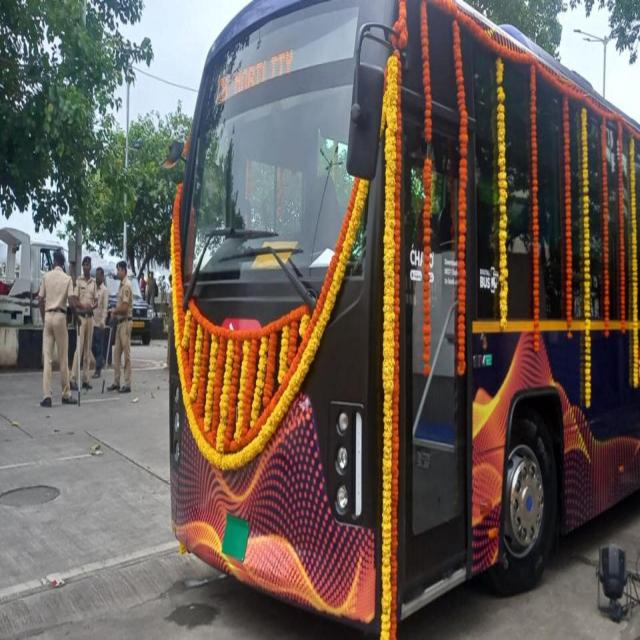bus: (173, 0, 640, 612)
